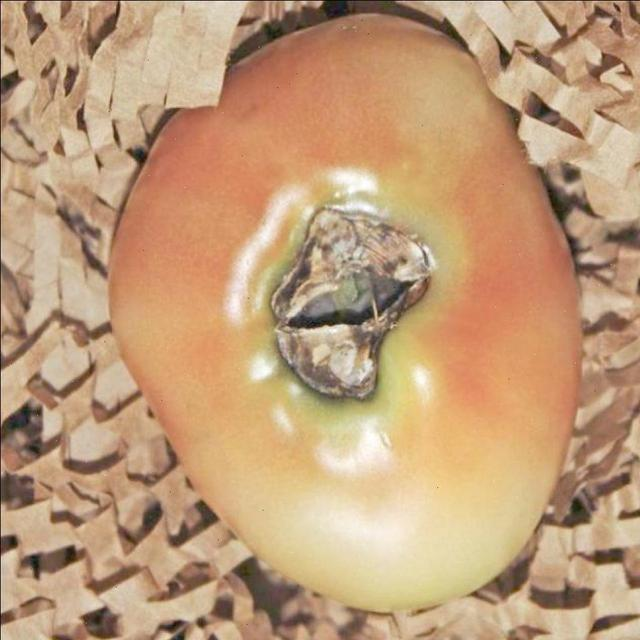Blossom End Rot Fruit: (158, 118, 306, 279)
